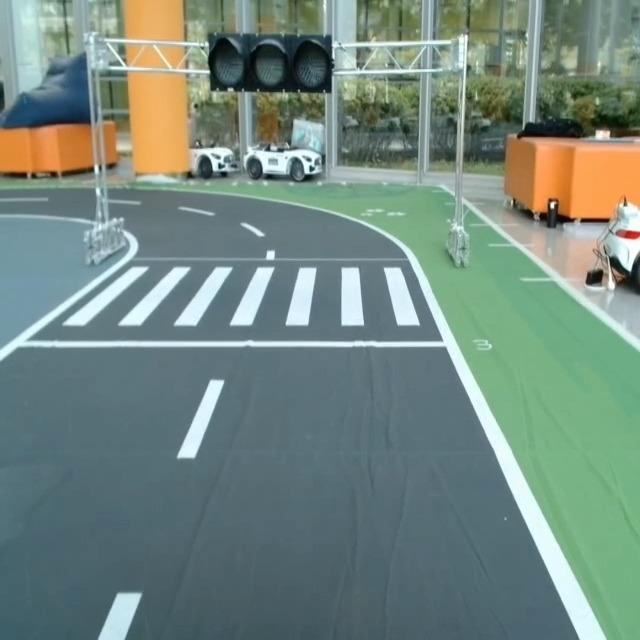traffic-light: (207, 27, 337, 93)
